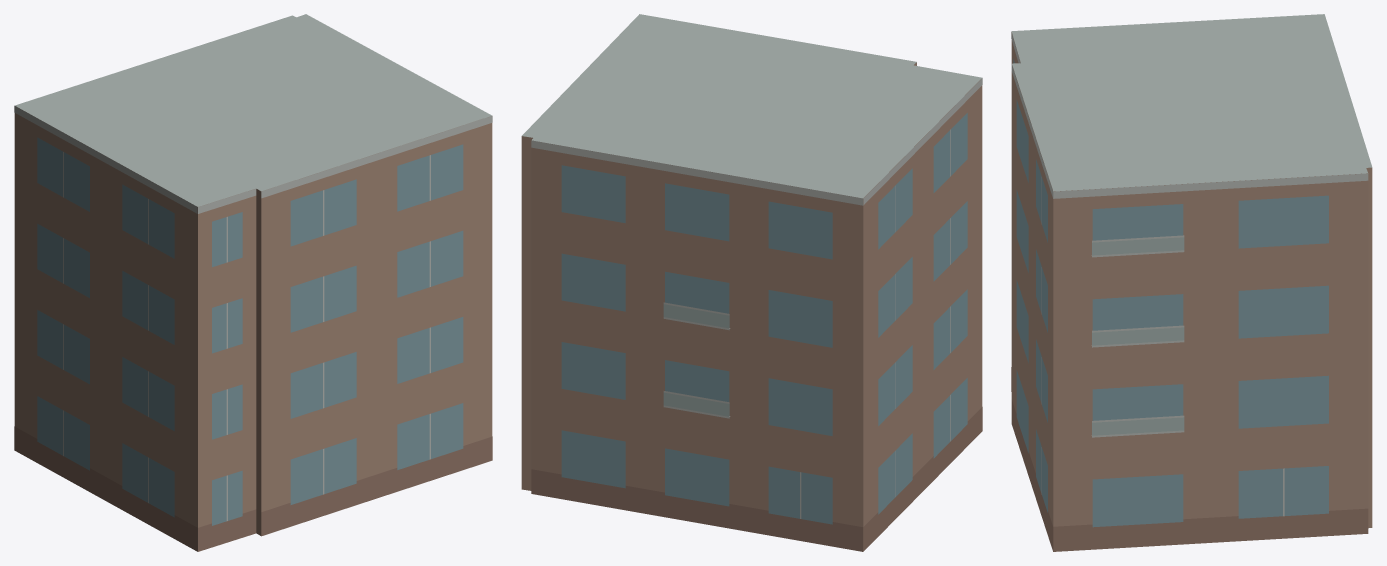
The model's file is survey-upis-32549647.glb.
3 renders of one model, left to right at view 1: azimuth 30°, elevation 25°; view 2: azimuth 150°, elevation 25°; view 3: azimuth 270°, elevation 25°, orthographic. The views are drawn at different scales.
Visible parts, largest first — view 1: survey-upis-32549647.tmp; view 2: survey-upis-32549647.tmp; view 3: survey-upis-32549647.tmp.
Boxes of the visible parts, x1,y1,x2,y2 form: survey-upis-32549647.tmp: (14,14,492,551); survey-upis-32549647.tmp: (521,14,982,551); survey-upis-32549647.tmp: (1011,14,1372,551).
Bounding box in the file's own units: 12.58 × 11.9 × 10.81.
